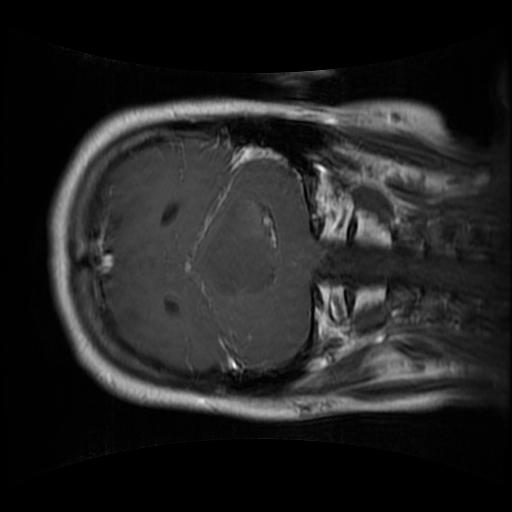glioma: (201, 196, 279, 299)
